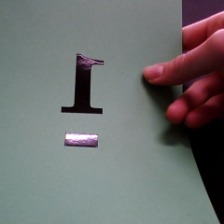green1: (42, 42, 117, 158)
